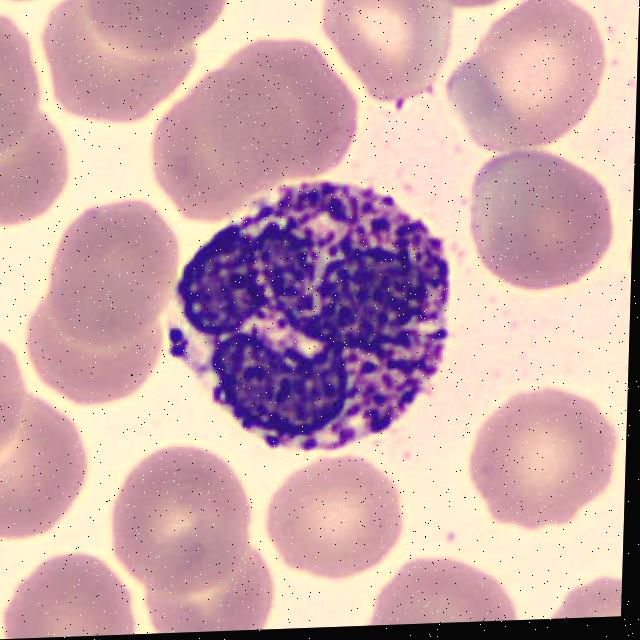basophil: (163, 184, 460, 458)
rbc: (457, 391, 620, 540), (36, 192, 190, 346), (469, 139, 614, 298), (45, 0, 206, 127), (446, 37, 618, 154), (157, 80, 288, 219), (267, 454, 407, 584), (120, 455, 249, 586), (257, 33, 368, 183), (482, 0, 608, 121), (0, 387, 99, 541), (30, 305, 175, 403), (351, 546, 521, 626), (0, 556, 144, 640), (206, 72, 300, 199), (0, 118, 90, 242), (328, 0, 447, 91), (147, 551, 275, 634), (0, 0, 45, 160), (87, 0, 224, 51), (544, 560, 623, 619), (0, 341, 33, 480), (432, 0, 527, 29)
